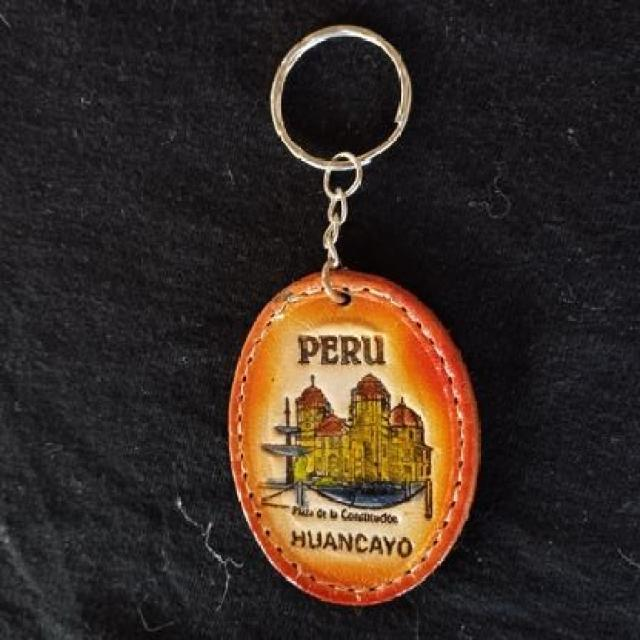Llavero: (226, 267, 482, 607)
